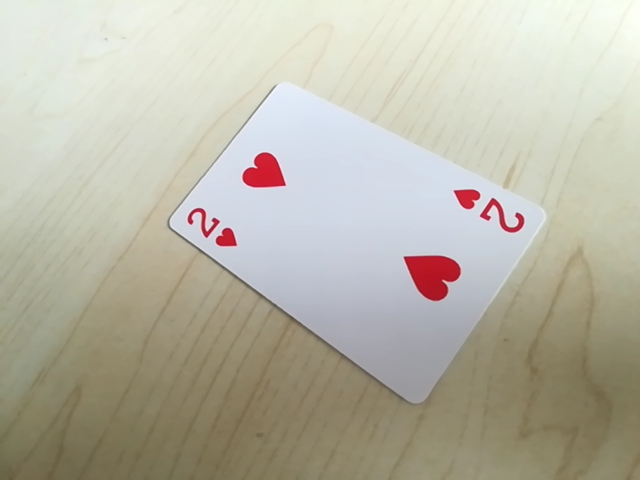hx 2: (451, 183, 531, 240), (177, 203, 241, 257)
